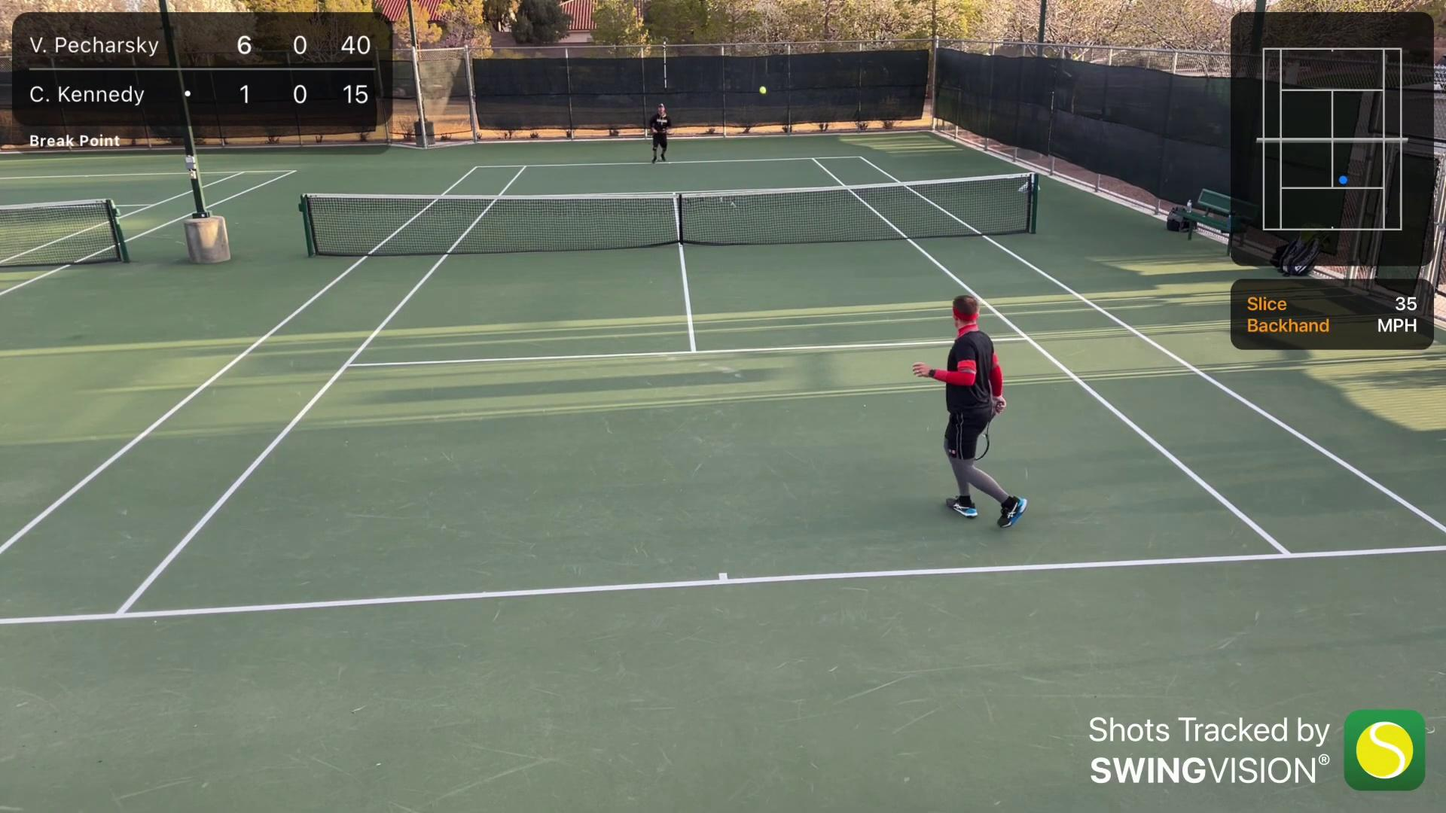ball: (758, 85, 767, 95)
